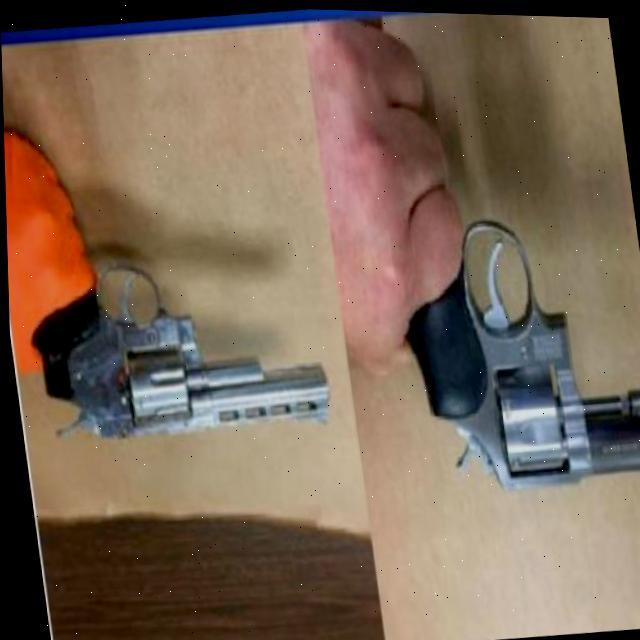gun: (8, 188, 350, 498), (383, 284, 640, 503)
